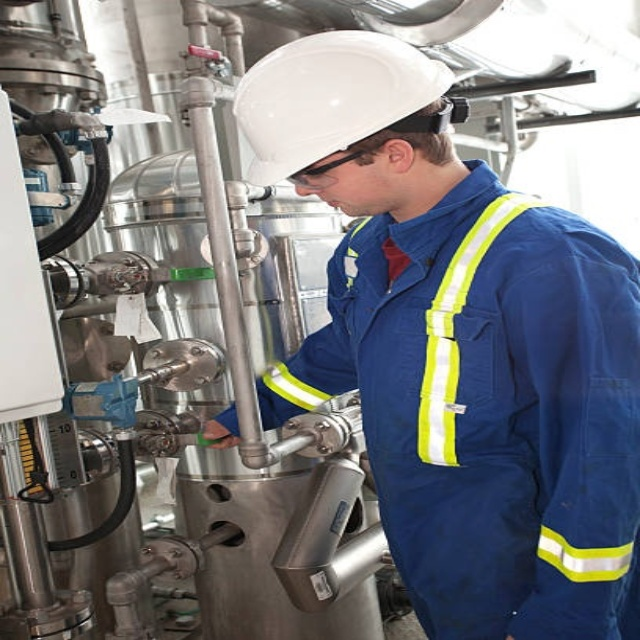Gafas: (286, 105, 445, 186)
Sin_guantes: (196, 419, 240, 450)
Sin_mascara: (315, 191, 372, 218)
